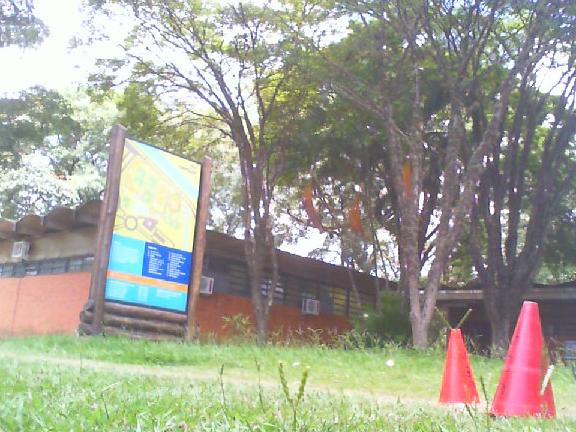0 cone: (484, 302, 558, 420), (437, 329, 480, 404)
